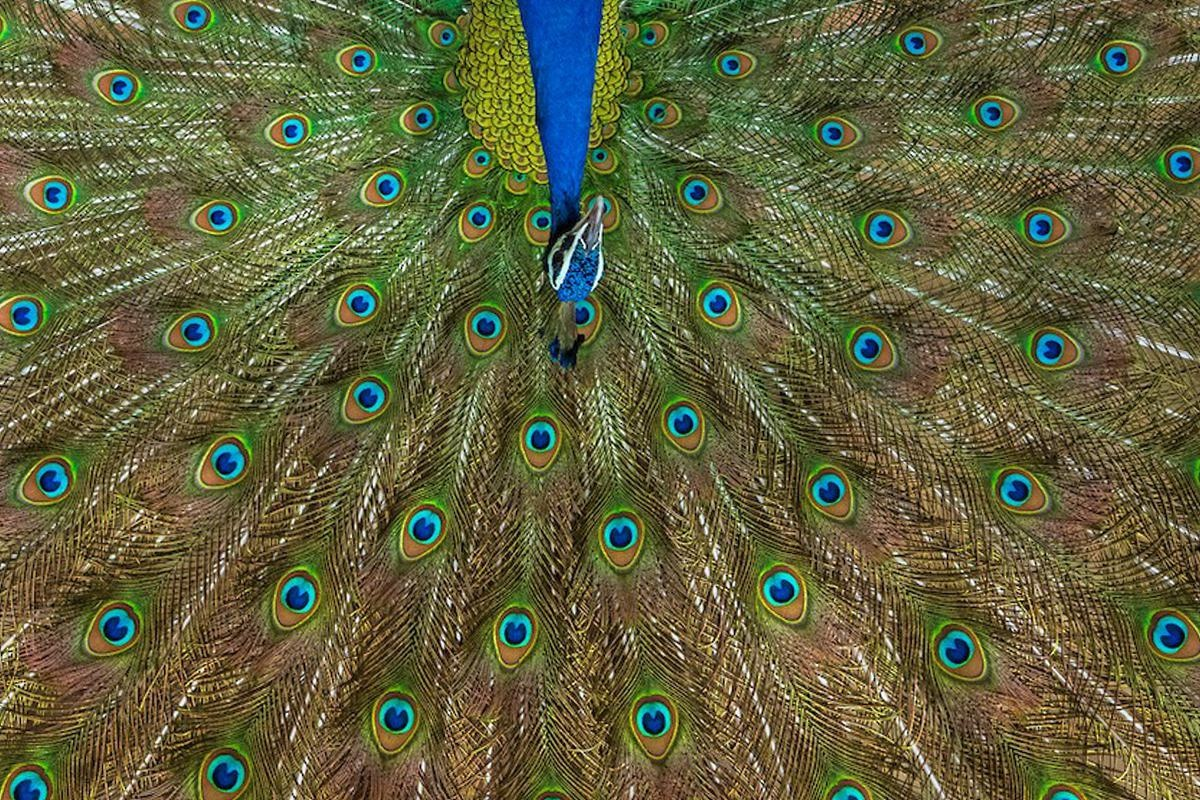peacock: (201, 1, 1200, 558)
